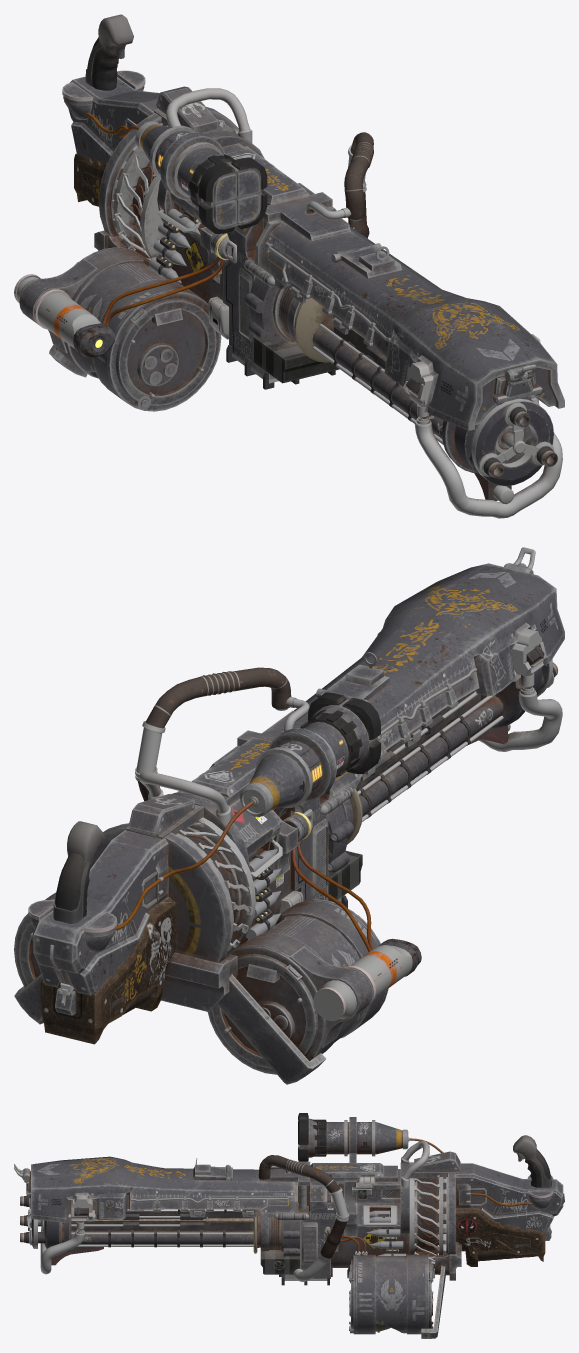
The model's file is heavy_pulse_machine_gun.glb.
The picture shows the model from 3 angles, top to bottom: view 1: azimuth 30°, elevation 25°; view 2: azimuth 150°, elevation 25°; view 3: azimuth 270°, elevation 25°; orthographic projection. The views are drawn at different scales.
Parts seen in each view (by area): view 1: desirefx.me_062, desirefx.me_039, desirefx.me_018, desirefx.me_019, desirefx.me_041, desirefx.me_005, desirefx.me_056, desirefx.me_061, desirefx.me_043, desirefx.me_040, desirefx.me_058, desirefx.me_024 (+30 smaller); view 2: desirefx.me_062, desirefx.me_039, desirefx.me_005, desirefx.me_019, desirefx.me_031, desirefx.me_040, desirefx.me_037, desirefx.me_033, desirefx.me_061, desirefx.me_024, desirefx.me_034, desirefx.me_053 (+28 smaller); view 3: desirefx.me_062, desirefx.me_039, desirefx.me_005, desirefx.me_031, desirefx.me_019, desirefx.me_040, desirefx.me_033, desirefx.me_061, desirefx.me_053, desirefx.me_012, desirefx.me_043, desirefx.me_054 (+33 smaller).
Part boxes in pixels (<box>): desirefx.me_062: <box>258,221,564,430</box>; desirefx.me_039: <box>53,247,221,411</box>; desirefx.me_018: <box>157,130,553,485</box>; desirefx.me_019: <box>98,107,239,258</box>; desirefx.me_041: <box>189,154,267,233</box>; desirefx.me_005: <box>68,76,159,164</box>; desirefx.me_056: <box>414,395,562,518</box>; desirefx.me_061: <box>154,109,350,240</box>; desirefx.me_043: <box>223,183,342,379</box>; desirefx.me_040: <box>135,121,231,204</box>; desirefx.me_058: <box>114,45,274,339</box>; desirefx.me_024: <box>14,274,101,348</box>; desirefx.me_062: <box>294,563,564,795</box>; desirefx.me_039: <box>14,892,388,1074</box>; desirefx.me_005: <box>32,830,168,995</box>; desirefx.me_019: <box>90,817,255,962</box>; desirefx.me_031: <box>40,896,176,1044</box>; desirefx.me_040: <box>240,705,369,816</box>; desirefx.me_037: <box>14,974,319,1084</box>; desirefx.me_033: <box>135,667,291,801</box>; desirefx.me_061: <box>126,710,307,839</box>; desirefx.me_024: <box>313,945,412,1020</box>; desirefx.me_034: <box>161,952,237,1011</box>; desirefx.me_053: <box>359,696,503,816</box>; desirefx.me_062: <box>31,1156,294,1222</box>; desirefx.me_039: <box>350,1252,431,1338</box>; desirefx.me_005: <box>455,1163,564,1232</box>; desirefx.me_031: <box>455,1208,545,1266</box>; desirefx.me_019: <box>409,1173,455,1255</box>; desirefx.me_040: <box>308,1118,409,1157</box>; desirefx.me_033: <box>258,1155,348,1281</box>; desirefx.me_061: <box>259,1161,457,1185</box>; desirefx.me_053: <box>62,1222,253,1244</box>; desirefx.me_012: <box>331,1169,409,1267</box>; desirefx.me_043: <box>284,1182,338,1278</box>; desirefx.me_054: <box>71,1210,253,1230</box>.
Size of the model in its own units: 1.11 by 0.8966 by 2.68.
Materials: 2 (2 with a texture image).
